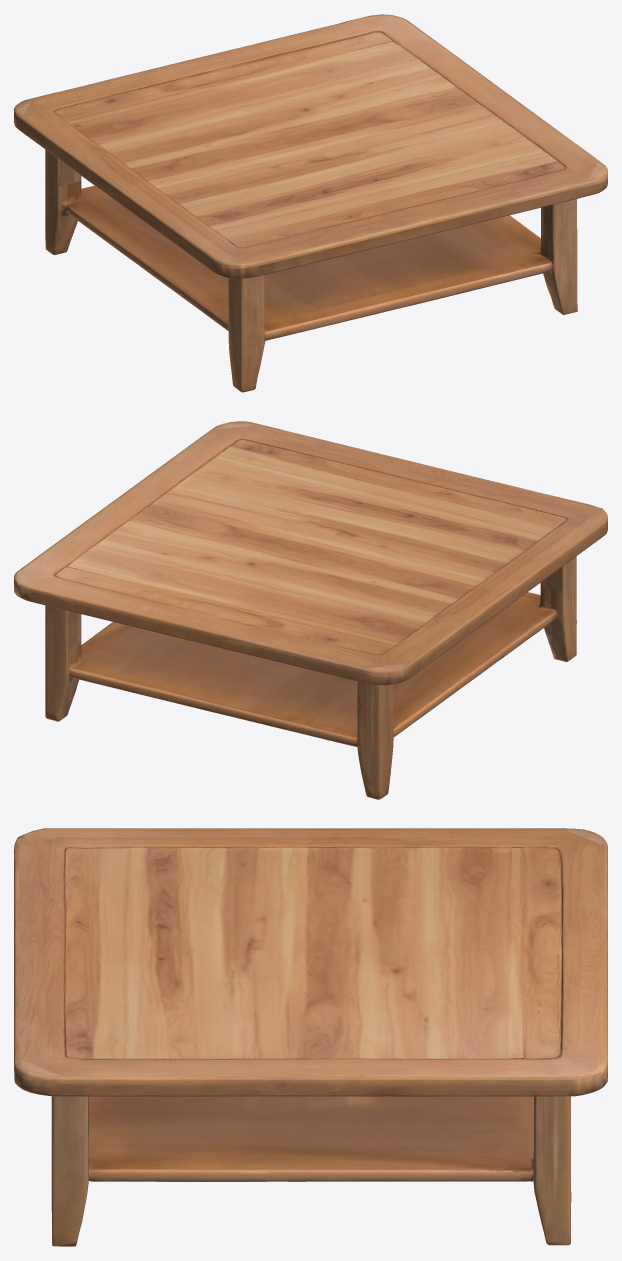
Rendered from mesa_ratona.glb.
3 views of the same model, one above another, from view 1: azimuth 30°, elevation 25°; view 2: azimuth 150°, elevation 25°; view 3: azimuth 270°, elevation 25° (orthographic). The views are drawn at different scales.
Parts seen in each view (by area): view 1: Mesh_0; view 2: Mesh_0; view 3: Mesh_0.
Boxes of the visible parts, box(x1,y1,x2,y2) form: Mesh_0: box(14, 14, 607, 392); Mesh_0: box(14, 421, 607, 799); Mesh_0: box(14, 828, 607, 1246).
Bounding box in the file's own units: 0.8681 × 0.3 × 0.8681.
1 material, 1 textured.
